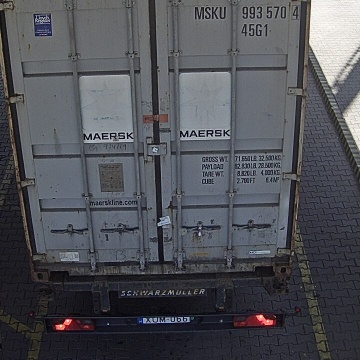serial_id: (194, 5, 300, 18)
